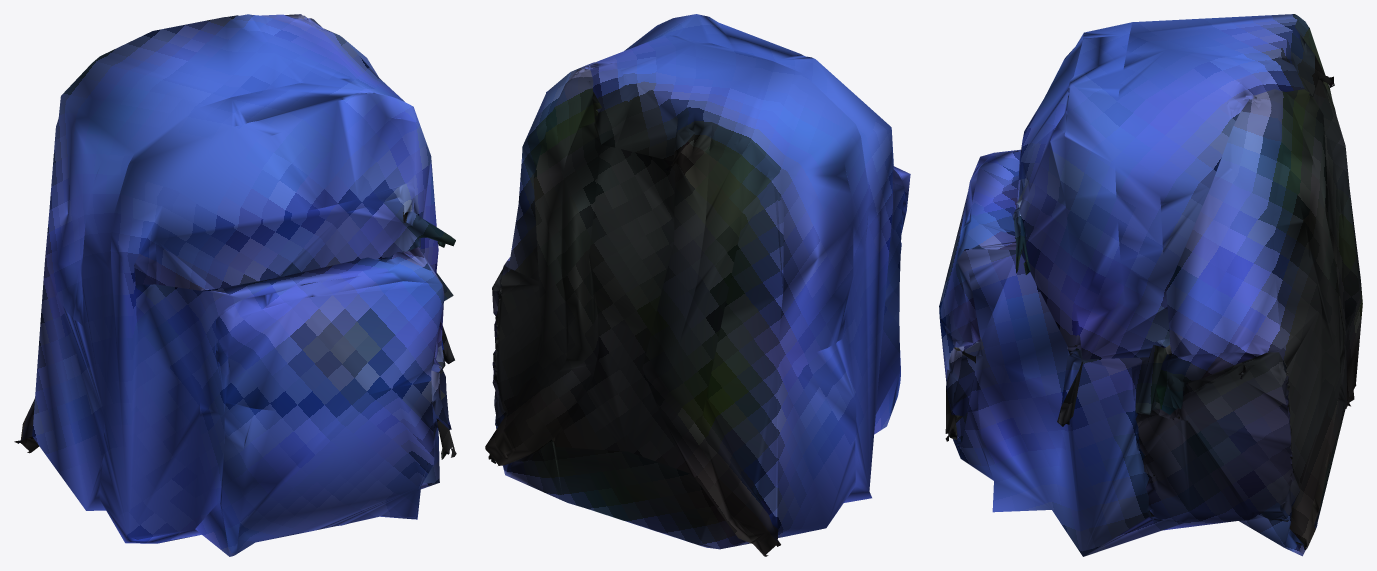
The model's file is Jansport_School_Backpack_Blue_Streak-low.glb.
3 renders of one model, left to right at view 1: azimuth 30°, elevation 25°; view 2: azimuth 150°, elevation 25°; view 3: azimuth 270°, elevation 25°, orthographic. The views are drawn at different scales.
Parts seen in each view (by area): view 1: Jansport_School_Backpack_Blue_Streak; view 2: Jansport_School_Backpack_Blue_Streak; view 3: Jansport_School_Backpack_Blue_Streak.
Boxes of the visible parts, box(x1,y1,x2,y2) form: Jansport_School_Backpack_Blue_Streak: box(14, 14, 456, 556); Jansport_School_Backpack_Blue_Streak: box(485, 14, 910, 556); Jansport_School_Backpack_Blue_Streak: box(939, 14, 1362, 556).
Bounding box in the file's own units: 0.3553 × 0.4352 × 0.3683.
1 material, 1 textured.
